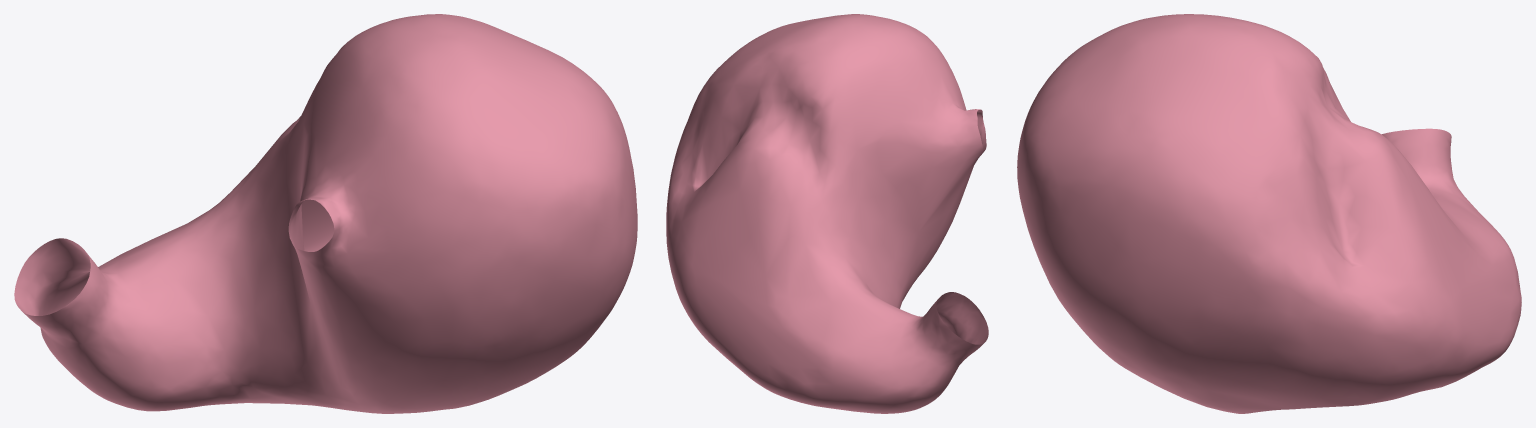
3 views of the same model, side by side, from view 1: azimuth 30°, elevation 25°; view 2: azimuth 150°, elevation 25°; view 3: azimuth 270°, elevation 25° (orthographic). The views are drawn at different scales.
Visible parts, largest first — view 1: 胃; view 2: 胃; view 3: 胃.
Boxes of the visible parts, left/top/right/bottom form: 胃: left=14, top=14, right=637, bottom=413; 胃: left=666, top=14, right=988, bottom=413; 胃: left=1017, top=14, right=1521, bottom=413.
Size of the model in its own units: 0.1977 by 0.1552 by 0.1849.
